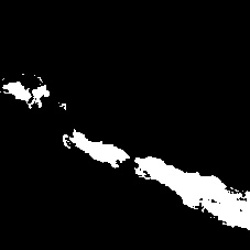crack: (68, 128, 249, 230), (4, 82, 49, 106), (64, 133, 69, 152)
pinhole: (60, 102, 66, 109)
